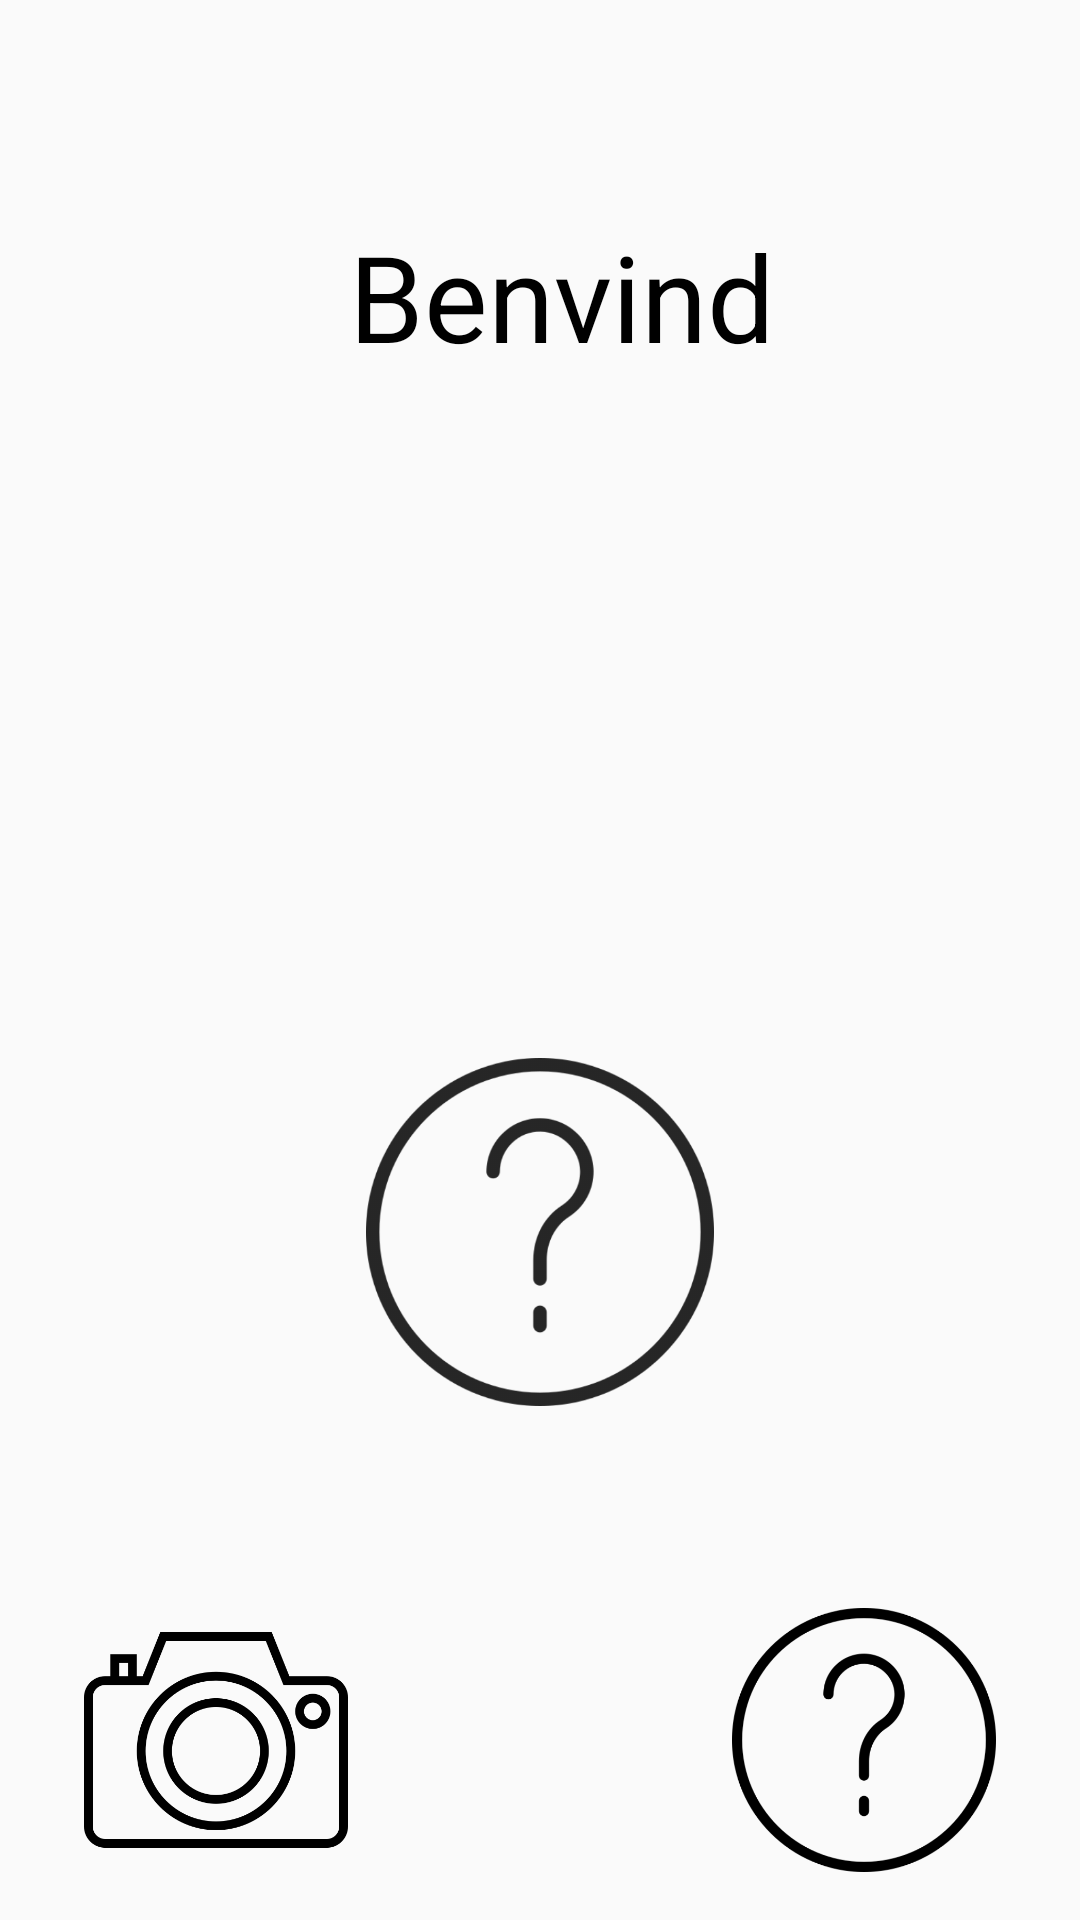

Named icons in this screenshot (1080px×1920px) and their bounding boxes, (x1, y1, x2, y2):
camera: (84, 1632, 348, 1848)
info: (366, 1058, 714, 1406), (732, 1608, 996, 1872)
